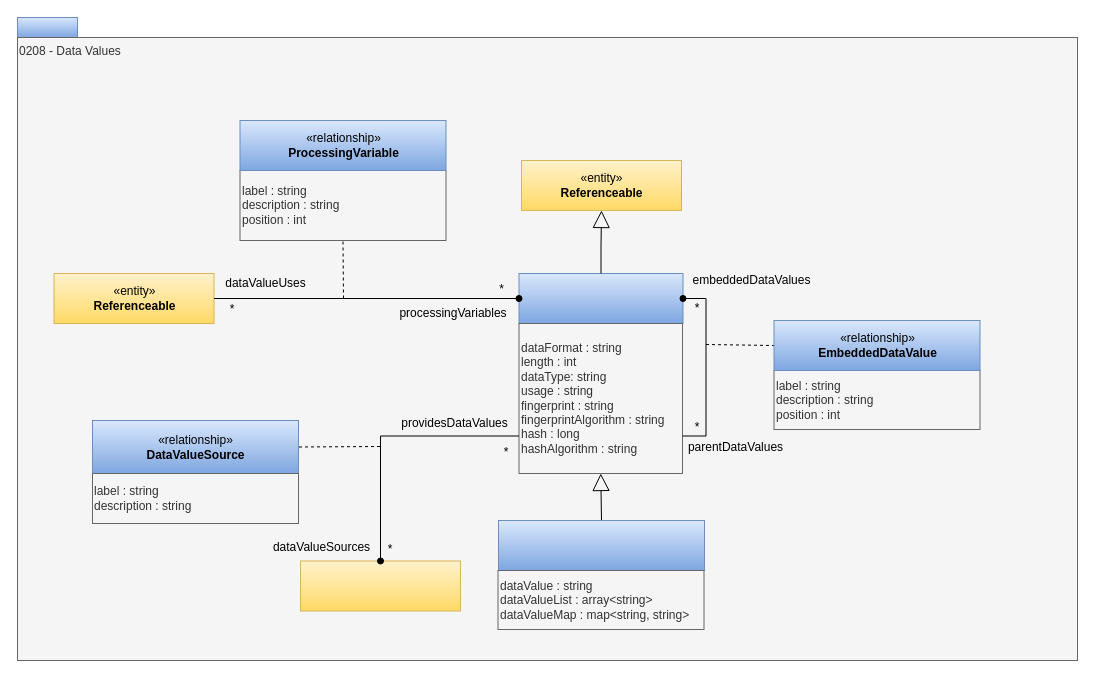
Some shapes in this 1095 by 678 pixel diagram are drawn without their labels. The shapes that lost their labels are listed below. From the top down, each one's centre as x and y in pixels, then its label:
point 600,298: «entity» DataValue
point 601,545: «entity» LiteralDataValue
point 380,585: «entity» Asset
